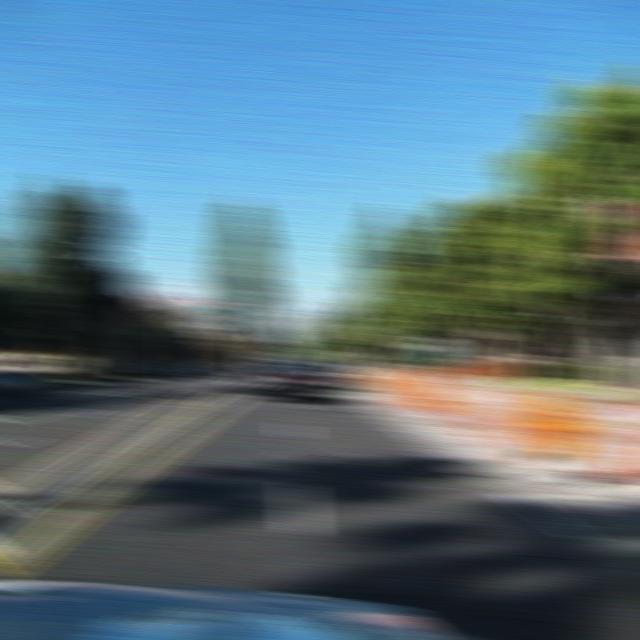speedLimit35: (158, 277, 196, 310)
